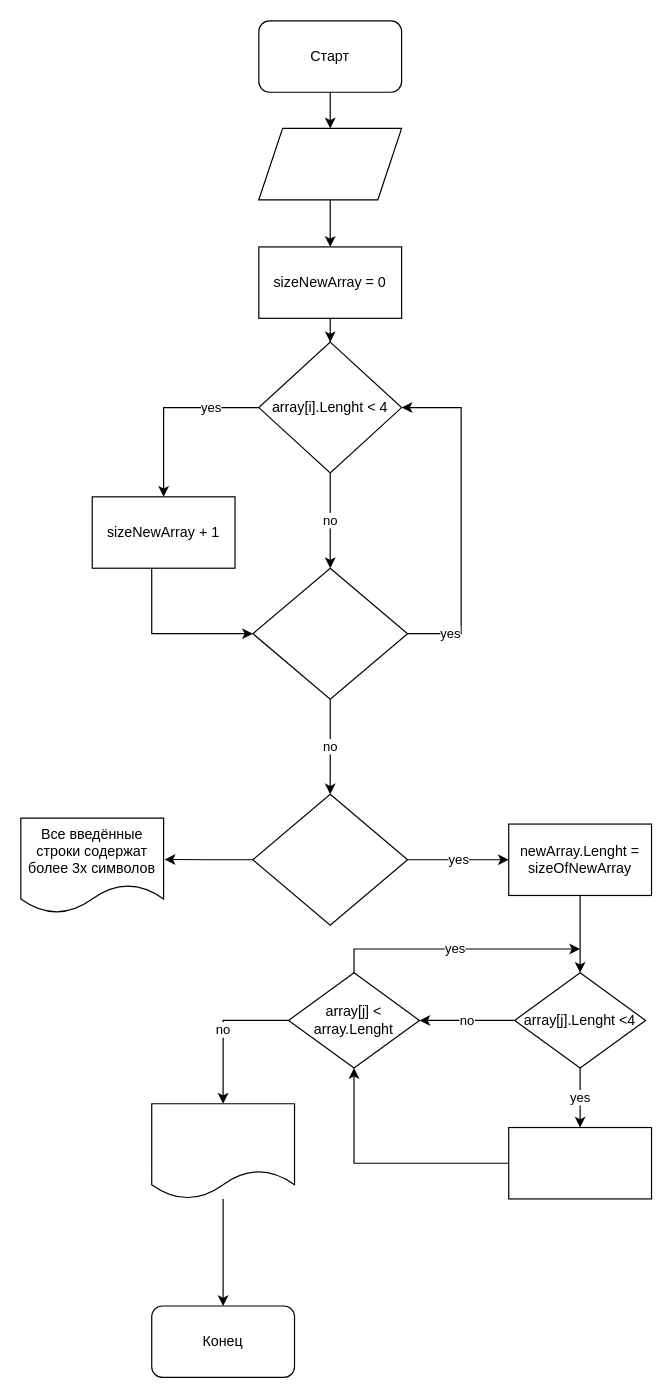
This 672x1398 diagram has some shape labels left out. The shapes that lost their labels are listed below. From the top down, each one's centre as x and y in pixels, then its label:
the point at 330,163: Ввод строк
the point at 330,633: array[i]< array.Lenght
the point at 330,859: sizeOfNewArray > 0
the point at 223,1151: PrintArray(newArray)
the point at 580,1162: NewArray[i] = array[j]
